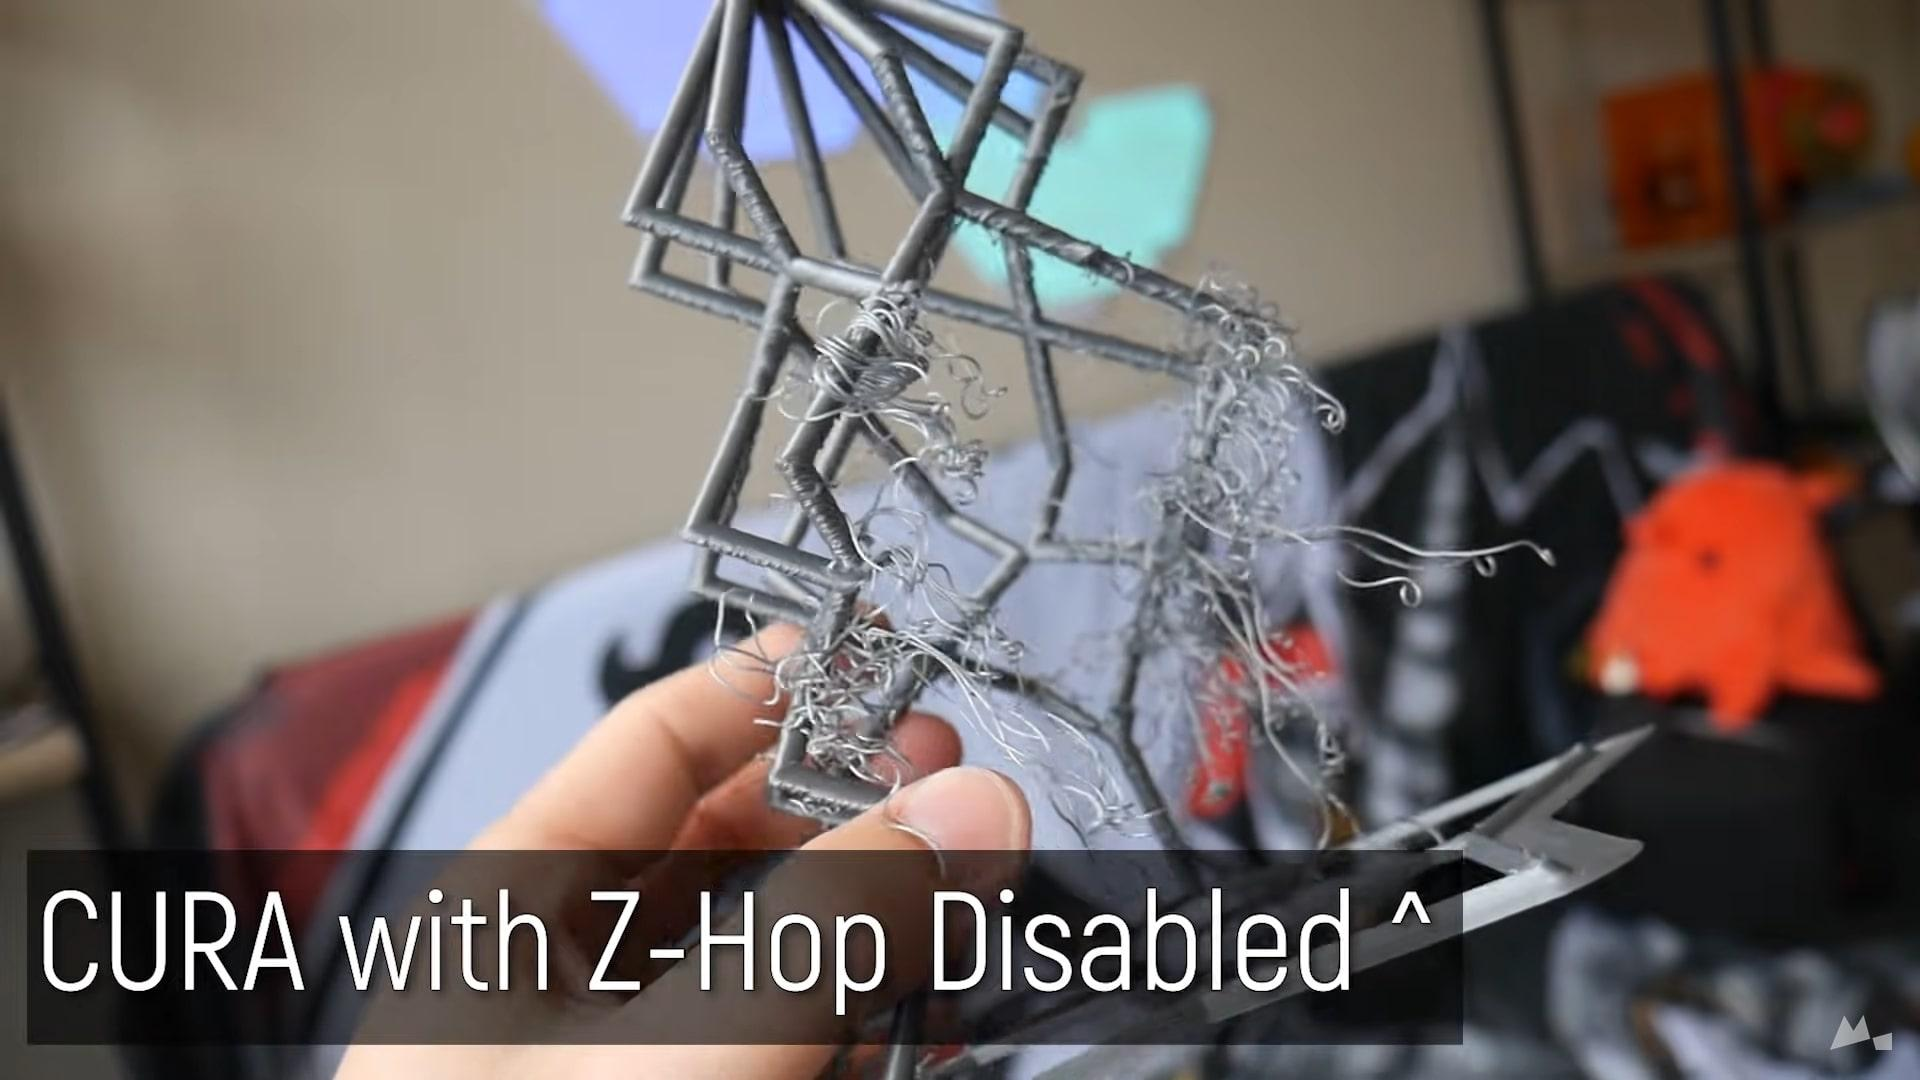Printing-Artifact: (1105, 305, 1346, 605), (703, 542, 1030, 748), (807, 272, 996, 501)
